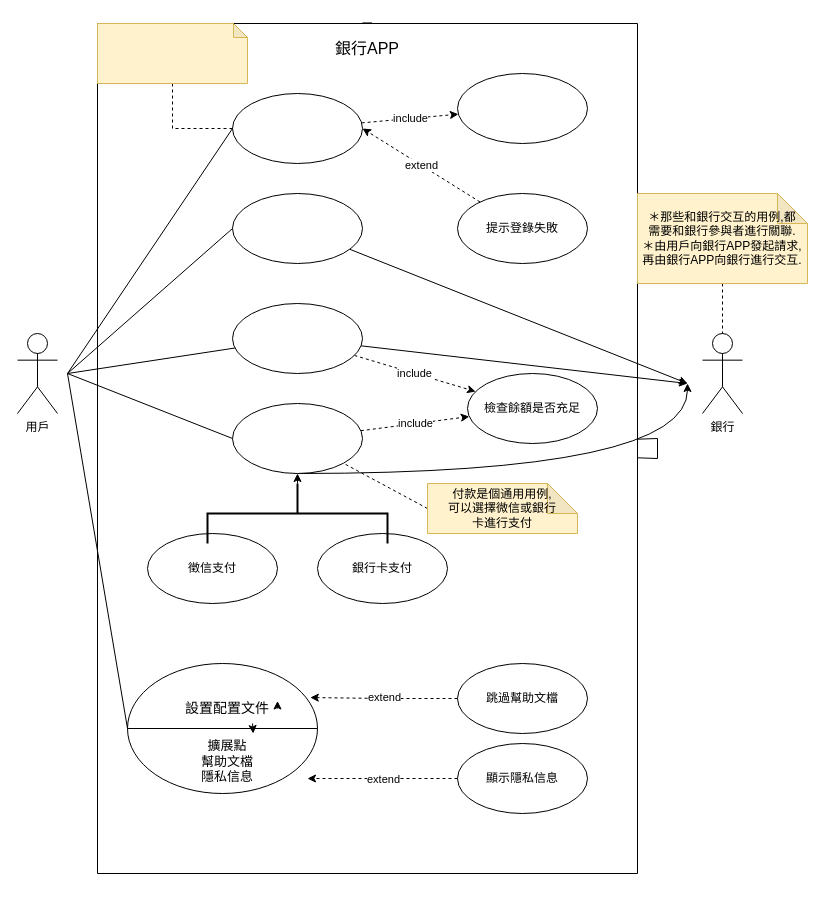
Some shapes in this 825 by 899 pixel diagram are drawn without their labels. Here are the shapes that lost their labels. From the top down, the centre of each, then its label:
At point (172, 53): "每次登錄都需要驗證密碼, 但是只有帳號或密碼 錯誤才提示登錄失敗".
At point (297, 128): "登錄帳號".
At point (522, 108): "驗證密碼".
At point (297, 228): "查詢餘額".
At point (297, 338): "轉帳".
At point (297, 438): "付款".
